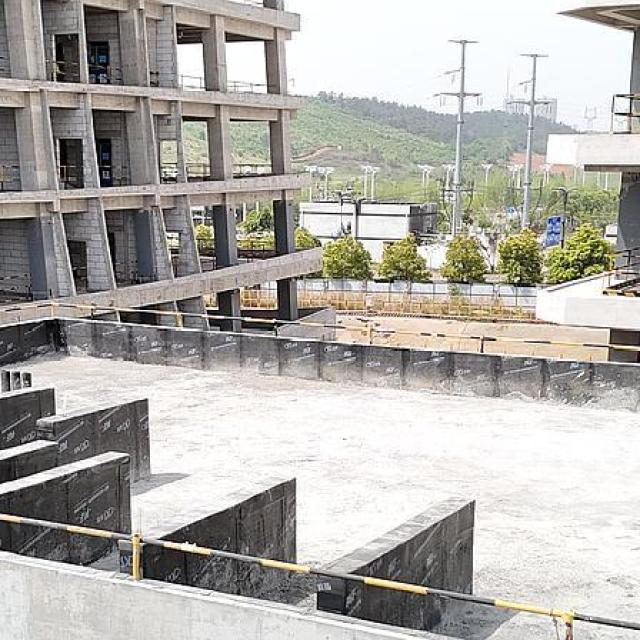edge_guardrail: (0, 512, 640, 638), (1, 300, 640, 354), (601, 244, 640, 296), (608, 92, 639, 134), (1, 272, 34, 302), (237, 239, 274, 260), (196, 237, 217, 272), (88, 63, 123, 81), (58, 165, 83, 189), (46, 60, 80, 76), (226, 80, 267, 93), (1, 164, 20, 192), (179, 74, 207, 90), (160, 161, 179, 183), (233, 163, 271, 174), (186, 162, 211, 178), (113, 259, 138, 275), (72, 266, 88, 281), (99, 165, 127, 169)
